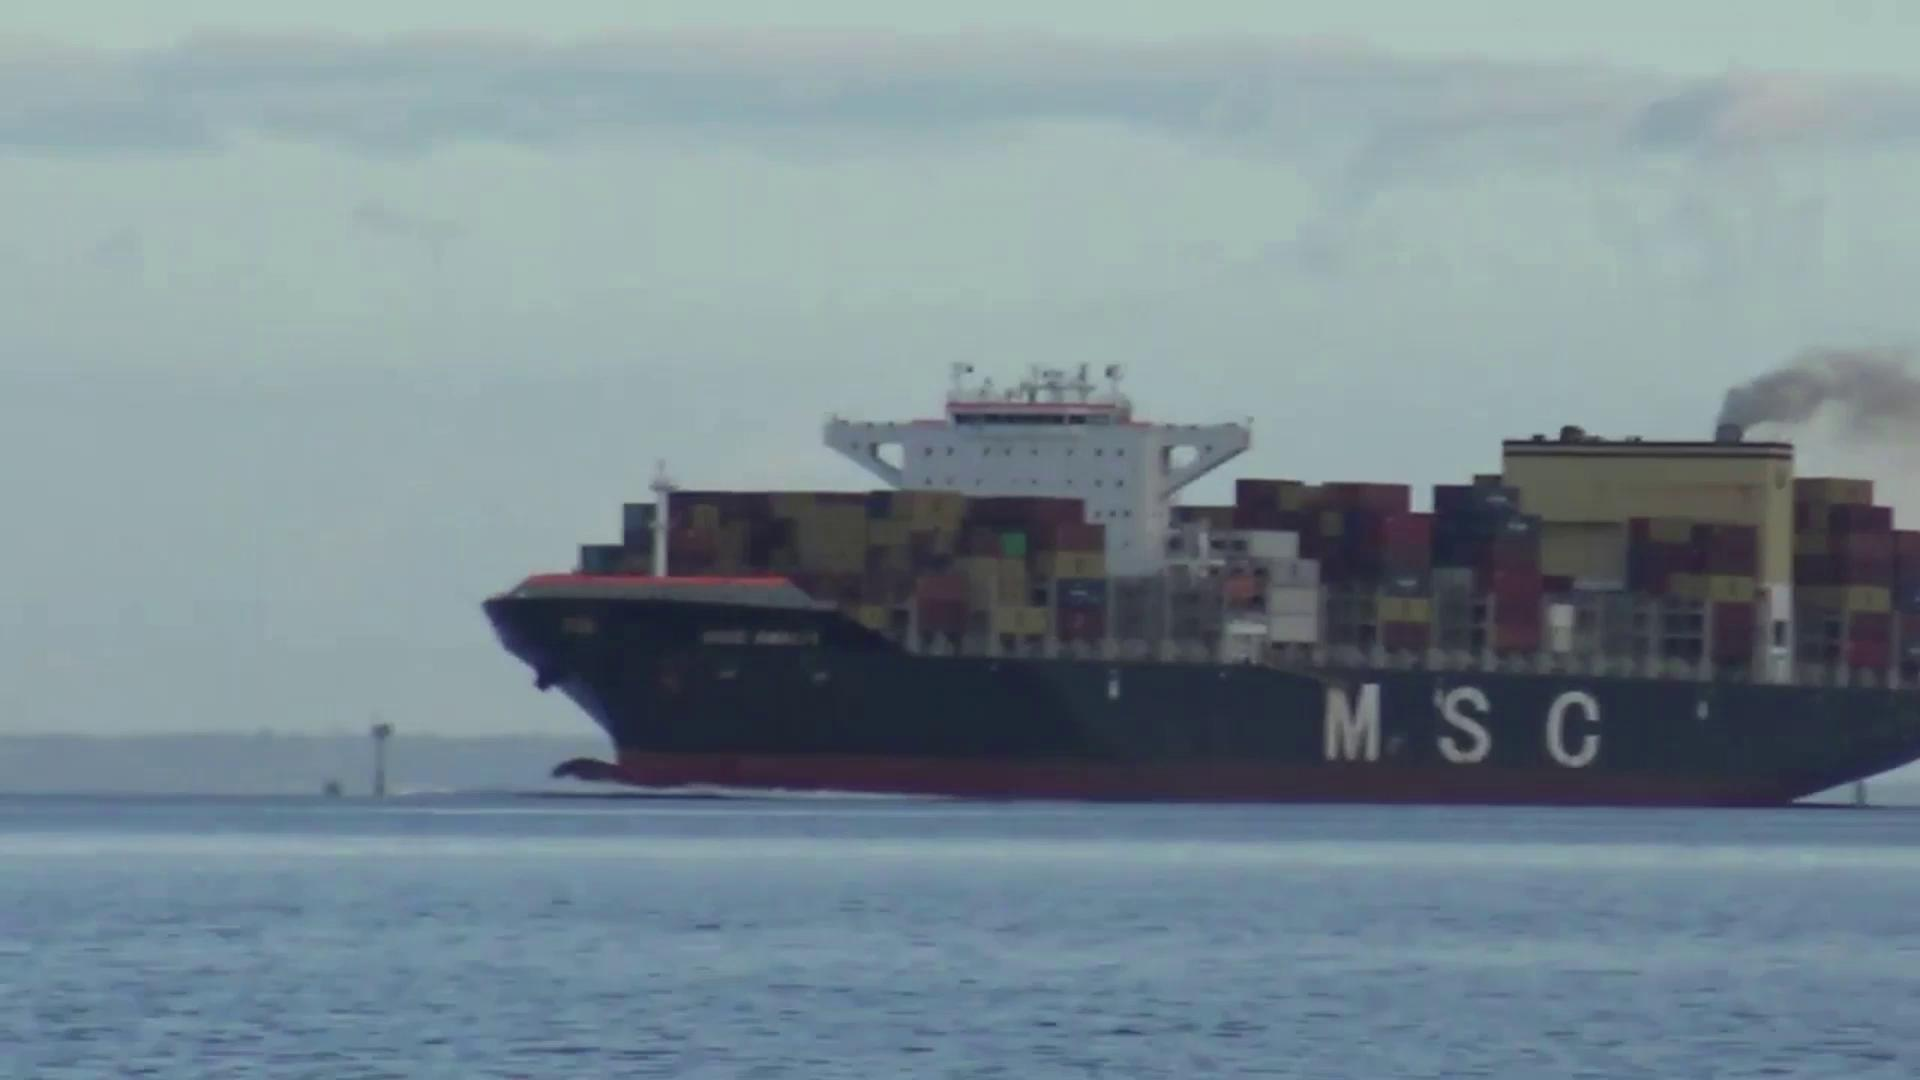OCR: (1302, 679, 1609, 782)
